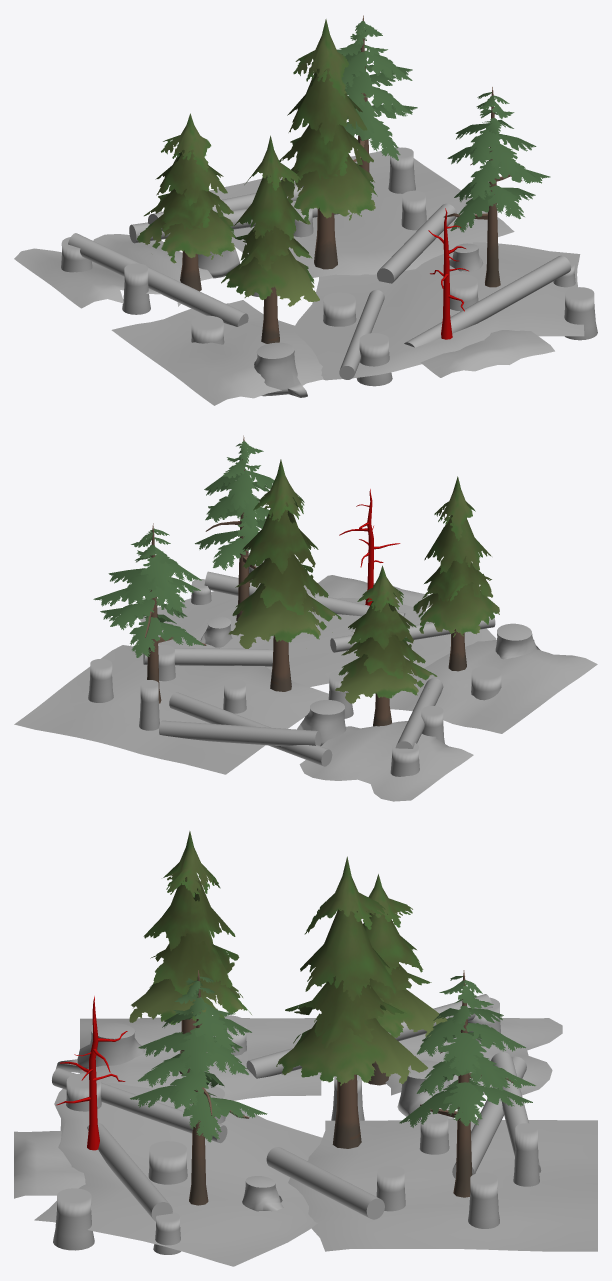
The model's file is smForestFenceTile3.fbx.
3 views of the same model, one above another, from view 1: azimuth 30°, elevation 25°; view 2: azimuth 150°, elevation 25°; view 3: azimuth 270°, elevation 25° (orthographic). The views are drawn at different scales.
Parts seen in each view (by area): view 1: smForestFence; view 2: smForestFence; view 3: smForestFence.
Boxes of the visible parts, <box> form: smForestFence: <box>14,15,597,405</box>; smForestFence: <box>14,435,597,801</box>; smForestFence: <box>14,831,597,1266</box>.
Bounding box in the file's own units: 94.77 × 56.37 × 94.86.
